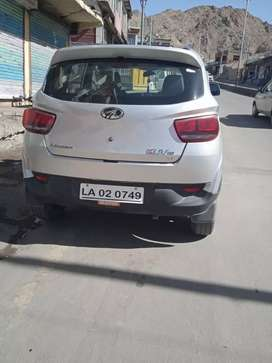LA020749: (79, 183, 144, 203)
